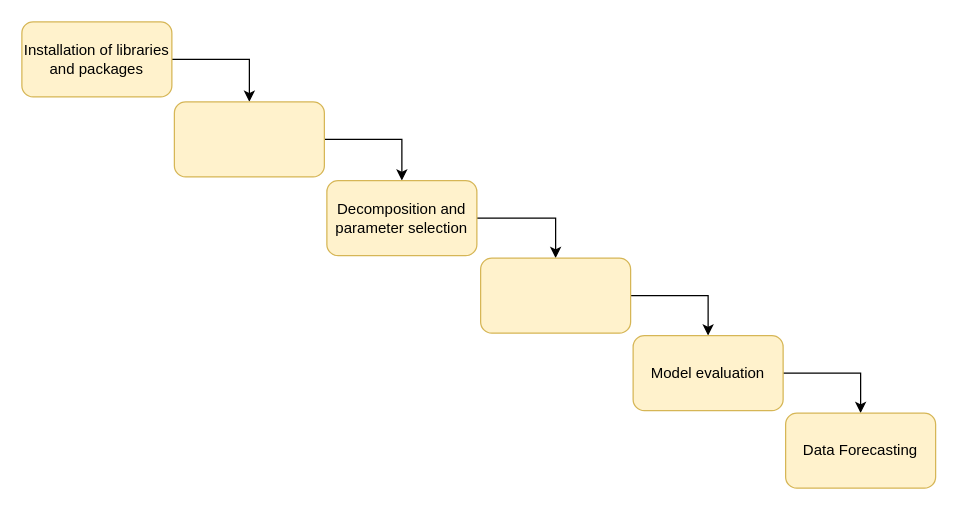
The diagram is 958 pixels wide and 510 high, and some of its shapes have lost their labels. The centre of each missing label's shape, as x and y in pixels:
Data exploration loading and manipulation: (248,139)
Data splitting: (555,295)
